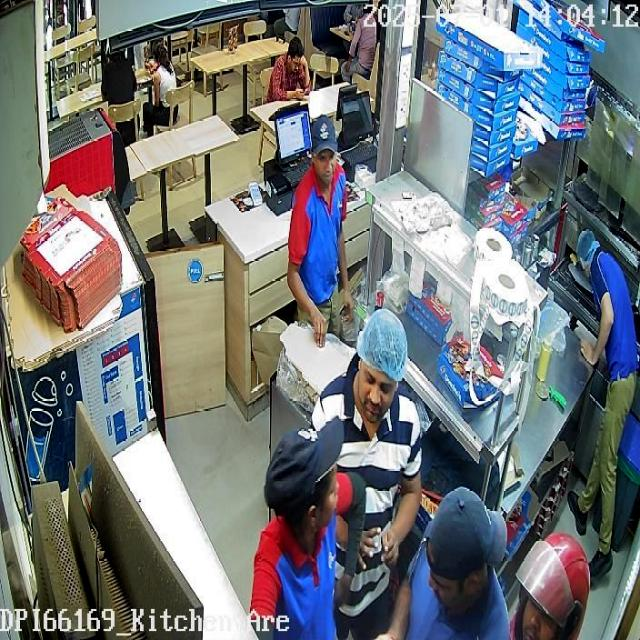helmet: (509, 533, 589, 639)
